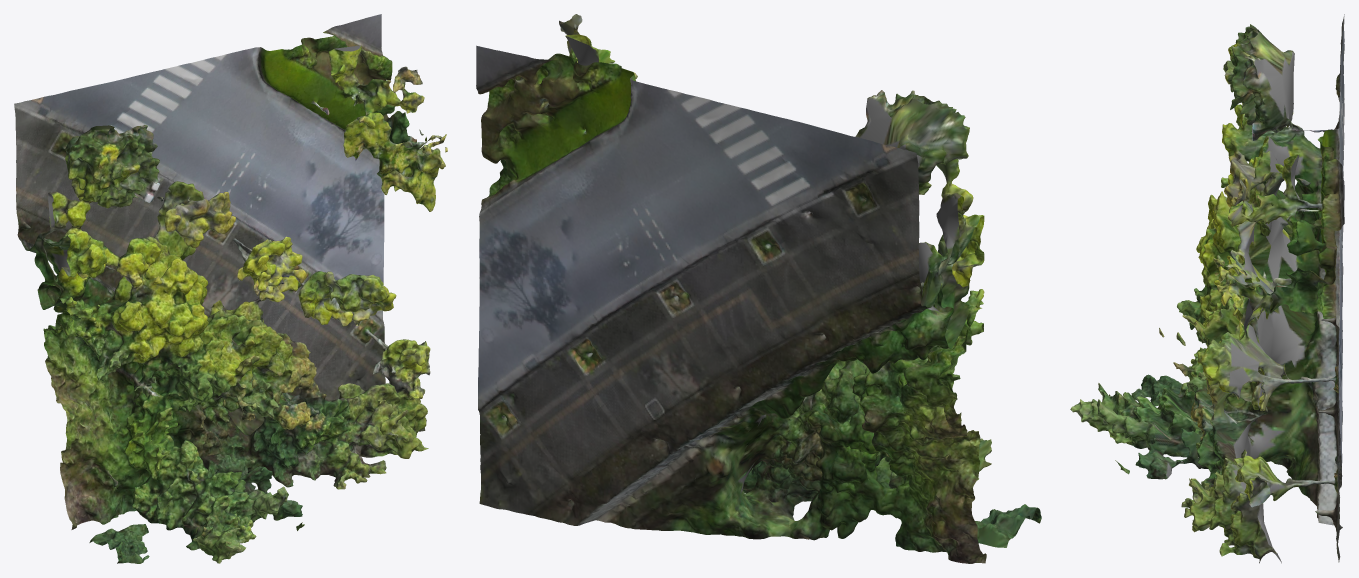
File: Tile_+013_+027.fbx
3 views of the same model, side by side, from view 1: azimuth 30°, elevation 25°; view 2: azimuth 150°, elevation 25°; view 3: azimuth 270°, elevation 25° (orthographic). The views are drawn at different scales.
Visible parts, largest first — view 1: DefaultName; view 2: DefaultName; view 3: DefaultName.
Boxes of the visible parts, <box> form: DefaultName: <box>14,14,447,563</box>; DefaultName: <box>476,14,1041,563</box>; DefaultName: <box>1070,14,1344,563</box>.
Size of the model in its own units: 22.54 by 22.54 by 14.95.
